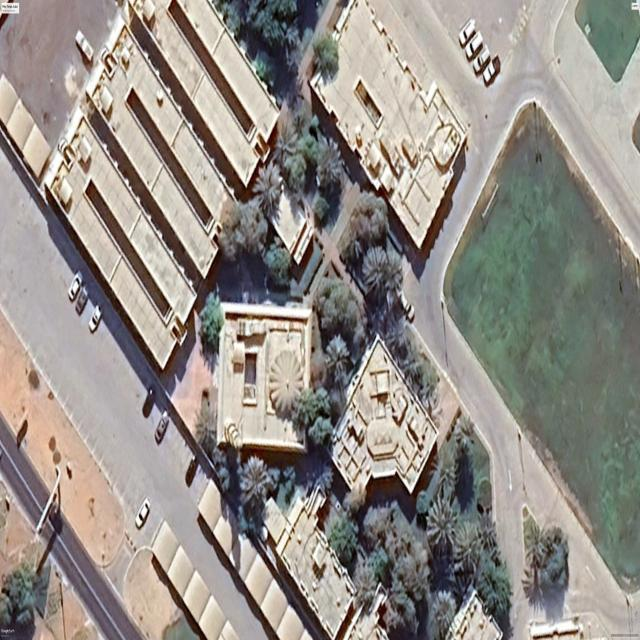mosque: (217, 302, 311, 452)
